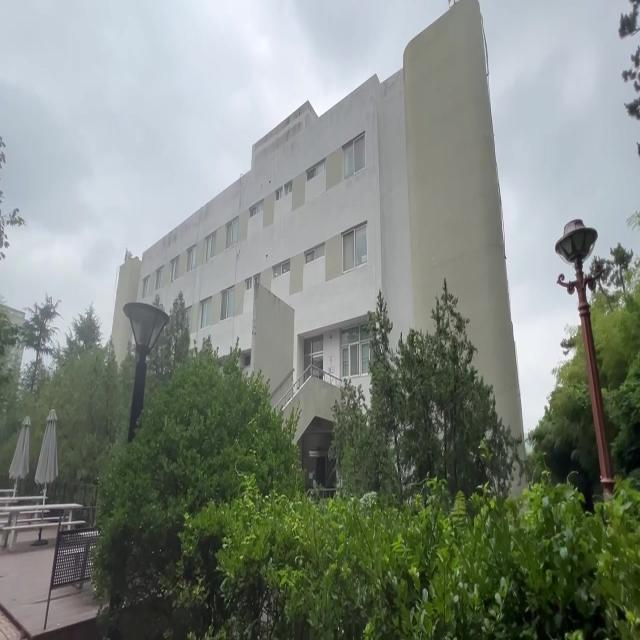building: (138, 27, 504, 321)
